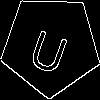U: (25, 20, 74, 76)
